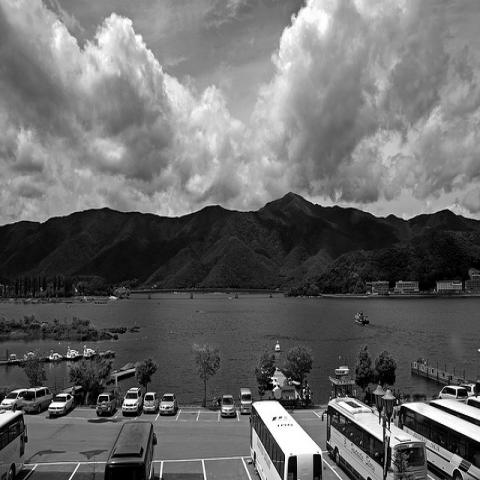bus: (323, 391, 429, 479), (394, 395, 479, 479), (246, 398, 325, 479), (104, 420, 157, 478), (0, 408, 26, 474), (430, 399, 480, 432)
car: (22, 386, 54, 414), (0, 387, 34, 412), (47, 391, 76, 418), (122, 387, 142, 416), (96, 392, 118, 416), (221, 392, 238, 421), (238, 387, 253, 415), (159, 394, 178, 415), (439, 384, 466, 398), (142, 391, 160, 412), (463, 383, 475, 397)
